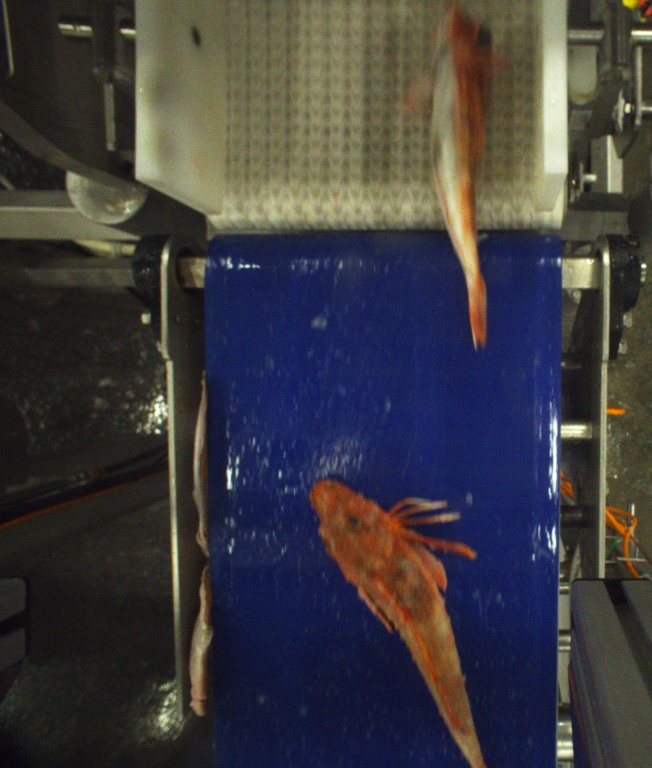GUU: (407, 3, 489, 358)
